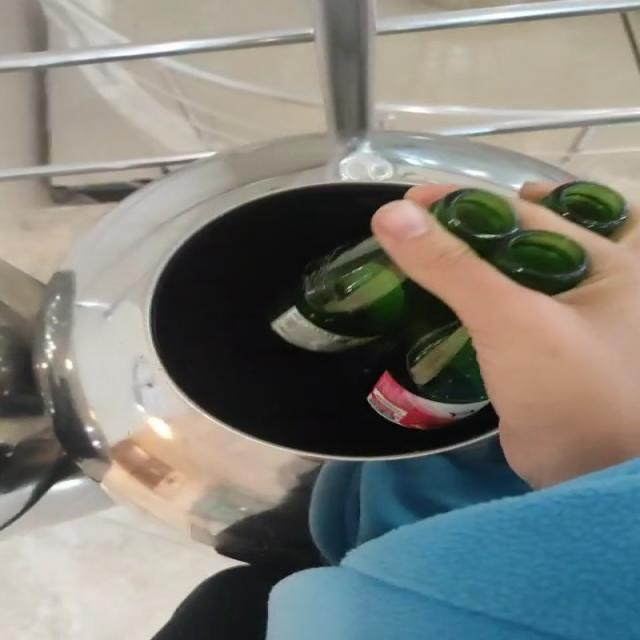Glass: (271, 238, 489, 430), (431, 189, 589, 295), (543, 181, 628, 235)
